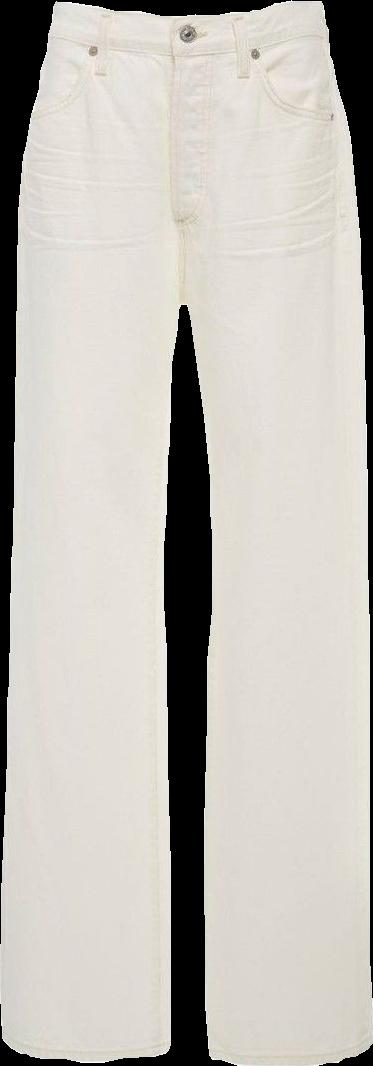Hemline: (0, 1030, 172, 1065), (207, 1035, 372, 1065)
Pantleg: (175, 1, 372, 1065), (1, 4, 181, 1062)
Waistline: (45, 25, 330, 63), (48, 0, 316, 33)
